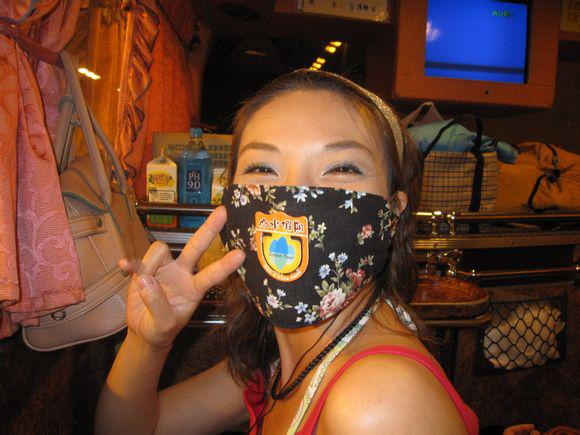OK: (218, 133, 396, 311)
